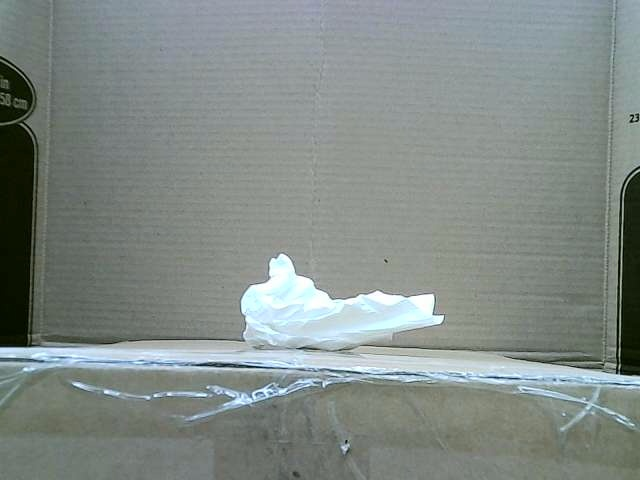Tissue: (241, 253, 446, 348)
